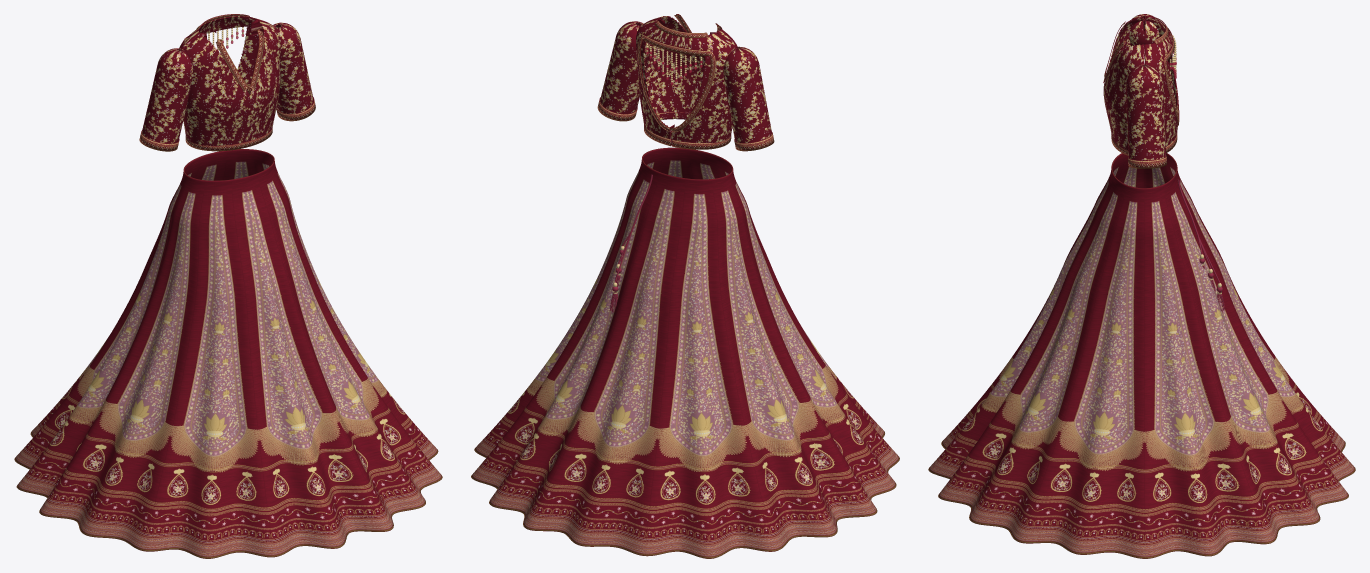
File: lehenga_o4.glb
3 views of the same model, side by side, from view 1: azimuth 30°, elevation 25°; view 2: azimuth 150°, elevation 25°; view 3: azimuth 270°, elevation 25° (orthographic).
Visible parts, largest first — view 1: O4R_Skirt, O4R_Blouse, O4R_SleeveL, O4R_SleeveR, O4R_NeckFront, O4R_HemBand; view 2: O4R_Skirt, O4R_Blouse, O4R_SleeveL, O4R_SleeveR, O4R_BackOpening, O4R_HemBand, O4R_BeadCurtain, O4R_Latkans; view 3: O4R_Skirt, O4R_Blouse, O4R_SleeveR, O4R_SleeveL, O4R_Latkans.
Part boxes in pixels (left/top/right/bottom): O4R_Skirt: left=14, top=149, right=442, bottom=558; O4R_Blouse: left=178, top=16, right=280, bottom=145; O4R_SleeveL: left=142, top=48, right=193, bottom=143; O4R_SleeveR: left=273, top=22, right=313, bottom=113; O4R_NeckFront: left=216, top=29, right=264, bottom=94; O4R_HemBand: left=185, top=128, right=272, bottom=151; O4R_Skirt: left=471, top=147, right=899, bottom=558; O4R_Blouse: left=636, top=16, right=737, bottom=145; O4R_SleeveL: left=723, top=46, right=772, bottom=142; O4R_SleeveR: left=600, top=21, right=652, bottom=113; O4R_BackOpening: left=637, top=34, right=715, bottom=132; O4R_HemBand: left=644, top=112, right=731, bottom=149; O4R_BeadCurtain: left=646, top=44, right=702, bottom=85; O4R_Latkans: left=609, top=174, right=652, bottom=312; O4R_Skirt: left=928, top=153, right=1355, bottom=558; O4R_Blouse: left=1103, top=16, right=1178, bottom=150; O4R_SleeveR: left=1125, top=64, right=1165, bottom=160; O4R_SleeveL: left=1129, top=14, right=1159, bottom=46; O4R_Latkans: left=1177, top=179, right=1224, bottom=312.
Bounding box in the file's own units: 1.32 × 1.5 × 1.32.
Materials: 6 (3 with a texture image).
